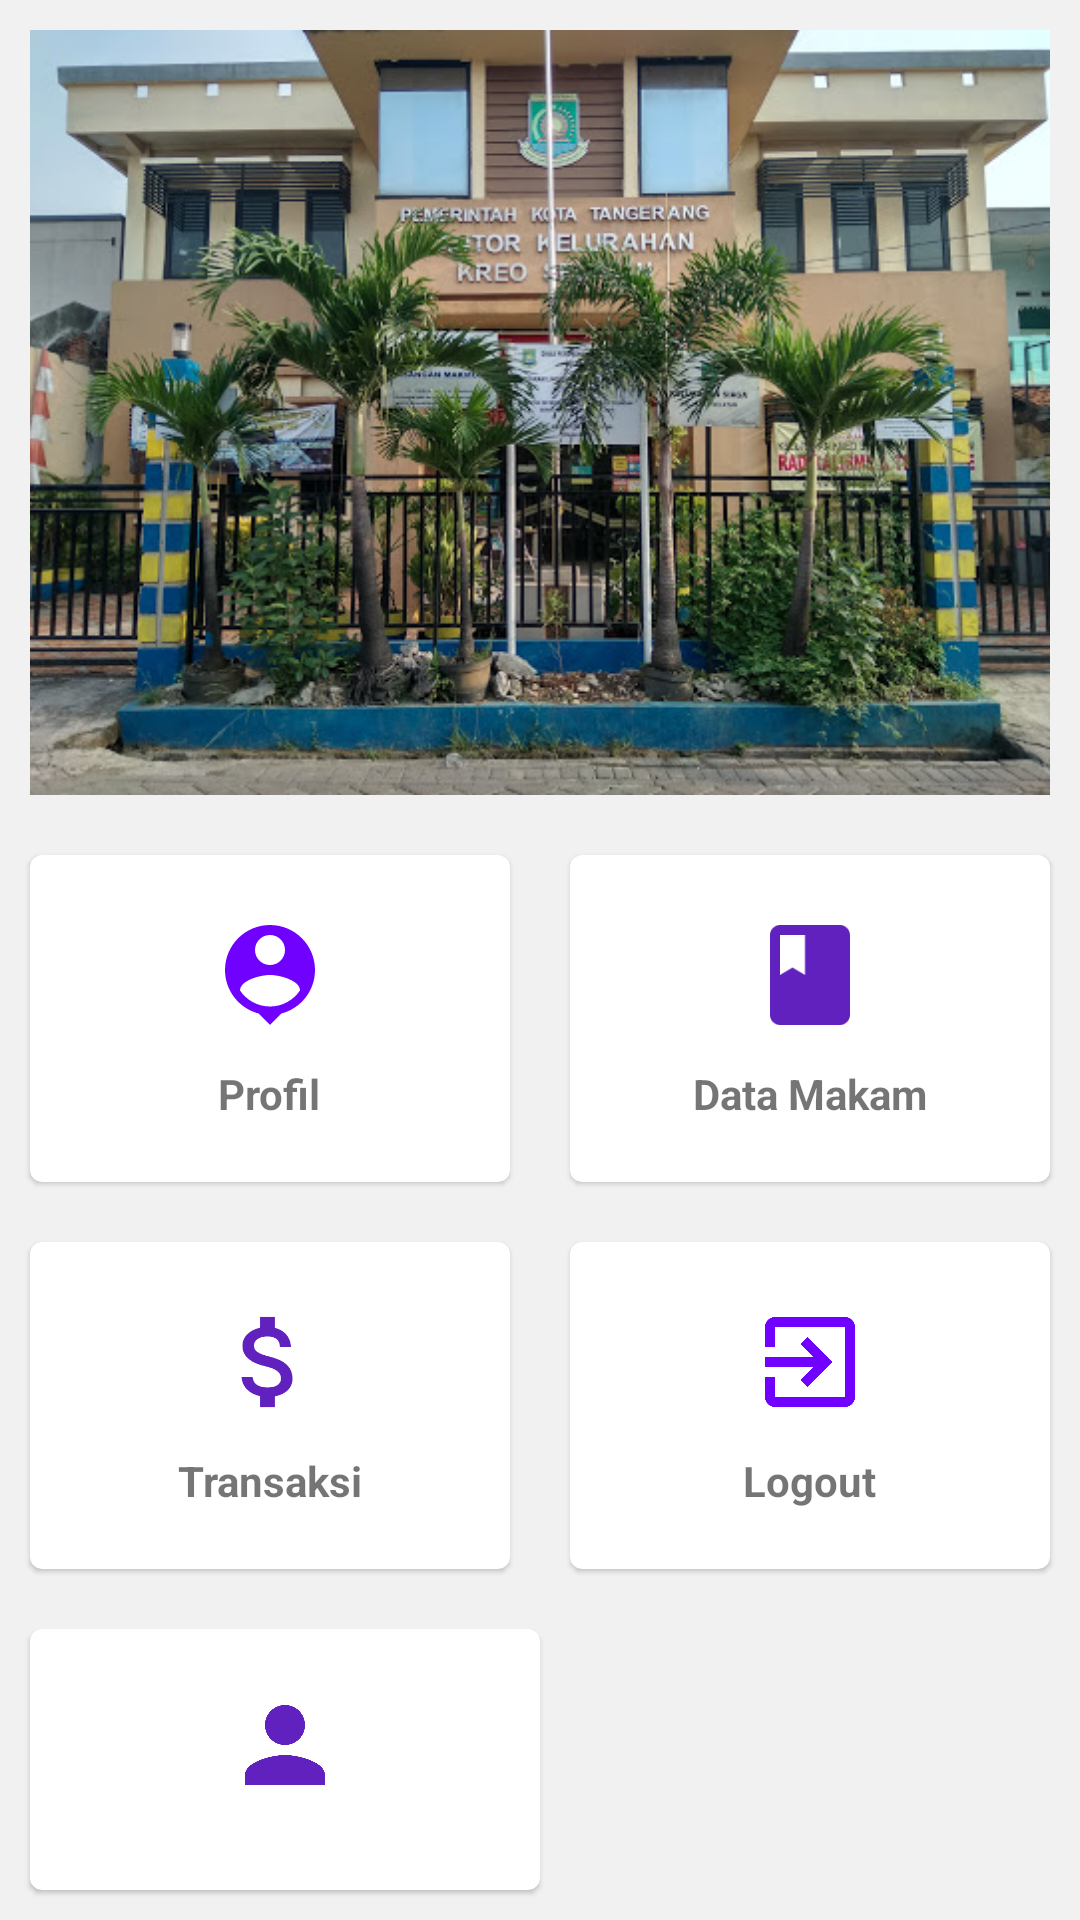

Icon click points for this 1080px x 1920px phone screenshot, format point (x, y):
buku: point (810, 975)
uang: point (267, 1362)
